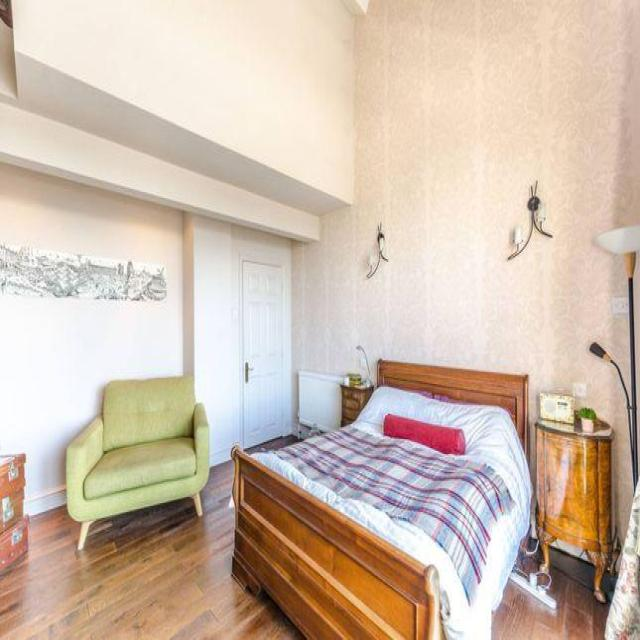Wall: (490, 1, 640, 537), (14, 0, 353, 200), (358, 2, 540, 368), (0, 164, 183, 514), (0, 461, 300, 639), (15, 52, 345, 213), (0, 102, 319, 242), (195, 216, 291, 464), (292, 204, 396, 374), (493, 568, 607, 639), (183, 212, 195, 376), (245, 435, 299, 453)
